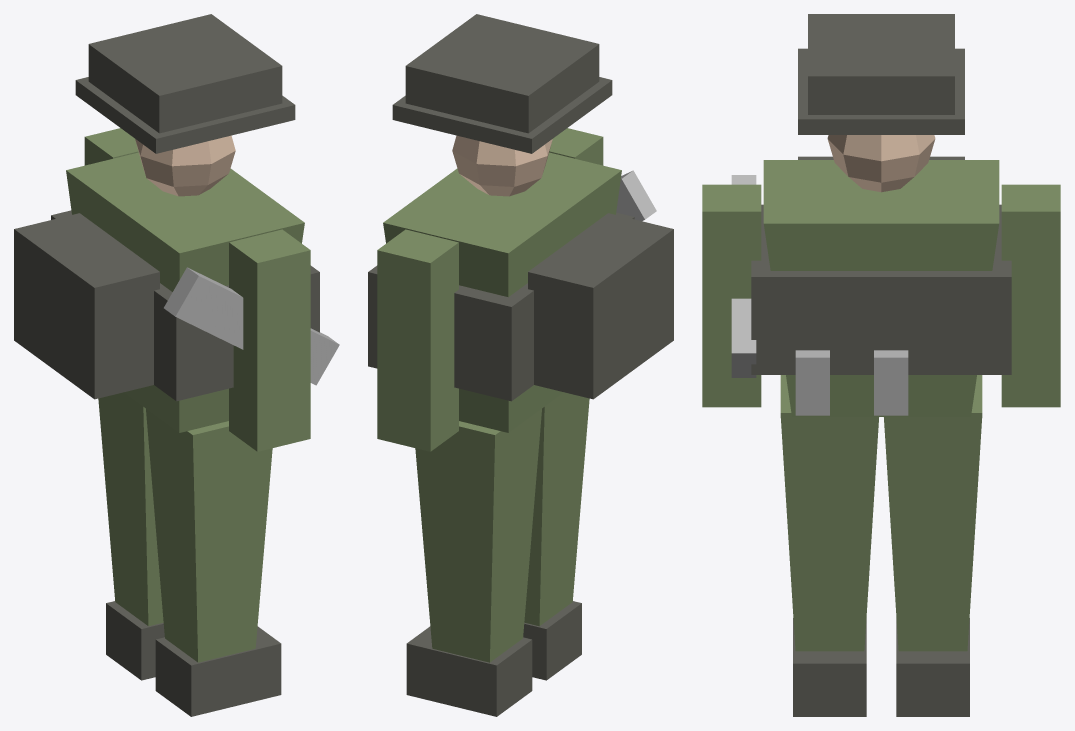
File: unit_engineer.glb
3 renders of one model, left to right at view 1: azimuth 30°, elevation 25°; view 2: azimuth 150°, elevation 25°; view 3: azimuth 270°, elevation 25°, orthographic. The views are drawn at different scales.
Visible parts, largest first — view 1: Engineer, accent_upper_Engineer, upper_Engineer, accent_Engineer, trim_upper_Engineer, skin_upper_Engineer; view 2: Engineer, accent_upper_Engineer, upper_Engineer, accent_Engineer, skin_upper_Engineer, trim_upper_Engineer; view 3: Engineer, accent_upper_Engineer, upper_Engineer, accent_Engineer, trim_upper_Engineer, skin_upper_Engineer.
Boxes of the visible parts, x1,y1,x2,y2 form: Engineer: (66,152,304,662); accent_upper_Engineer: (14,14,319,401); upper_Engineer: (84,128,310,451); accent_Engineer: (106,601,281,716); trim_upper_Engineer: (164,267,339,385); skin_upper_Engineer: (135,135,235,196); Engineer: (383,152,621,662); accent_upper_Engineer: (368,14,673,401); upper_Engineer: (377,128,603,451); accent_Engineer: (406,601,581,716); skin_upper_Engineer: (452,135,552,196); trim_upper_Engineer: (616,170,656,221); Engineer: (763,160,999,651); accent_upper_Engineer: (751,14,1011,374); upper_Engineer: (702,184,1060,407); accent_Engineer: (793,618,969,716); trim_upper_Engineer: (731,175,908,415); skin_upper_Engineer: (827,135,935,192).
Bounding box in the file's own units: 0.53 × 1.45 × 0.73.
